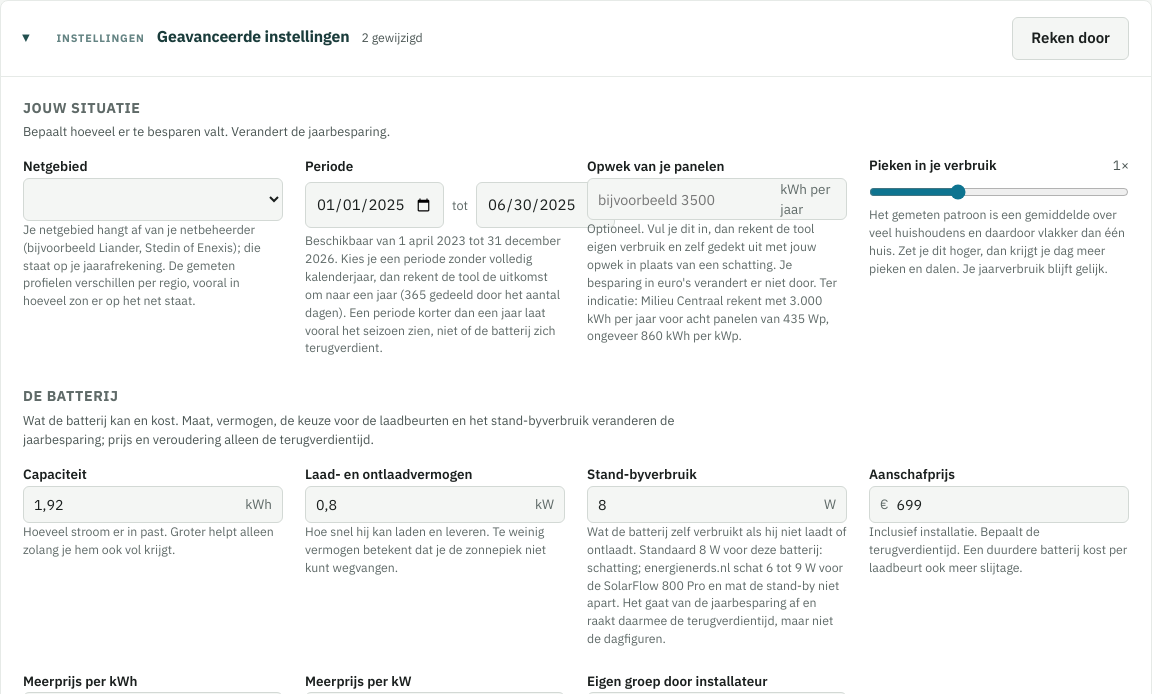
it: de periode › schuift het einde mee als het begin voorbij het einde komt
The width and height of the screenshot is (1152, 694).
Type "2025-09-01" into the date field labelled "Periode" at (374, 205), box [305, 182, 444, 228]
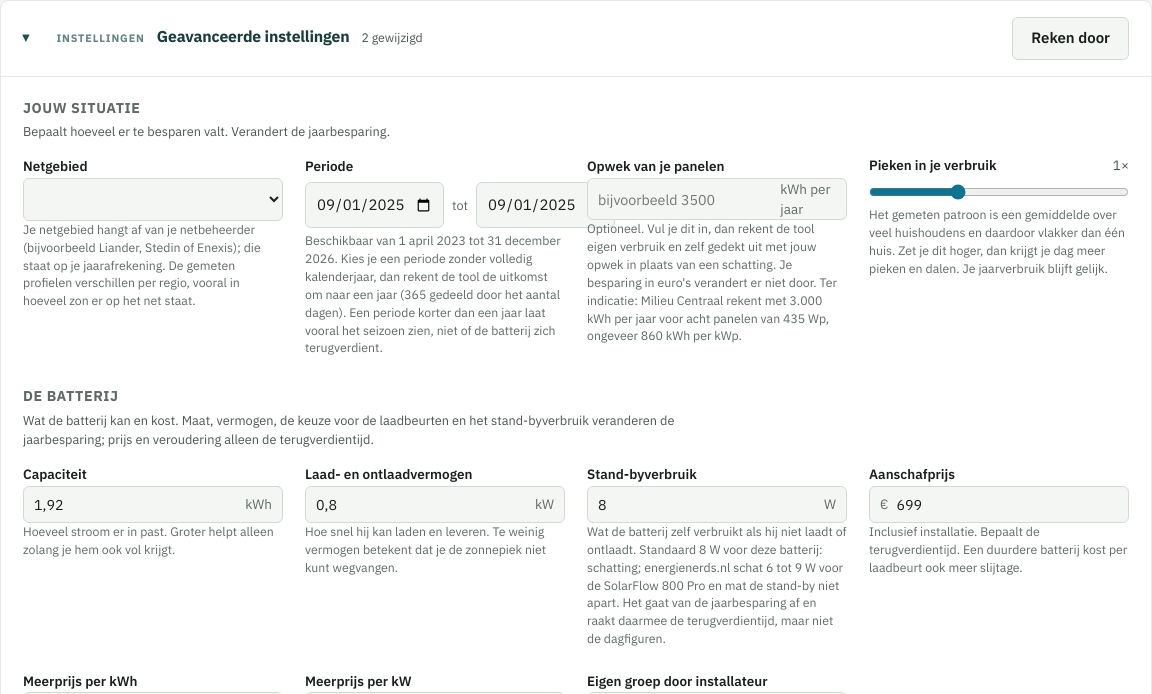
Expected: the 2nd date field holds "2025-09-01", [476, 182, 615, 228]
